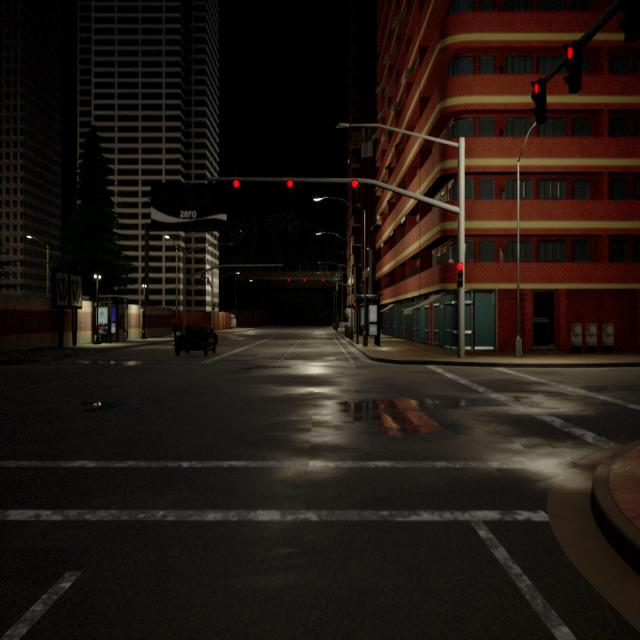Pedestrian: (171, 314, 178, 336)
Vehicle: (174, 323, 219, 358), (230, 314, 237, 330)
traffic_light: (563, 40, 583, 92), (619, 0, 640, 44), (531, 78, 547, 126), (456, 262, 463, 288), (286, 179, 294, 189), (233, 179, 240, 189), (351, 180, 358, 188), (212, 302, 215, 310), (200, 274, 203, 282), (203, 276, 206, 284), (207, 278, 209, 286), (287, 278, 290, 282), (353, 302, 356, 306), (303, 278, 306, 282), (322, 278, 324, 282)
